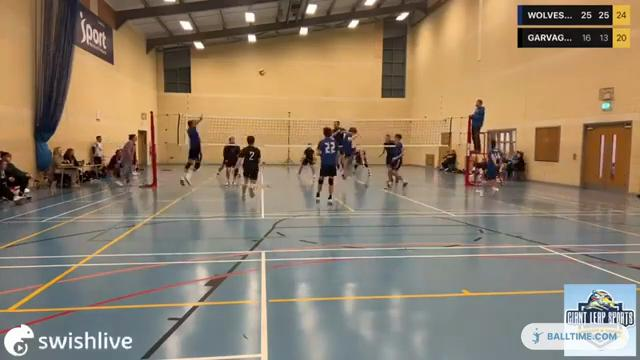attacco: (177, 110, 206, 190)
